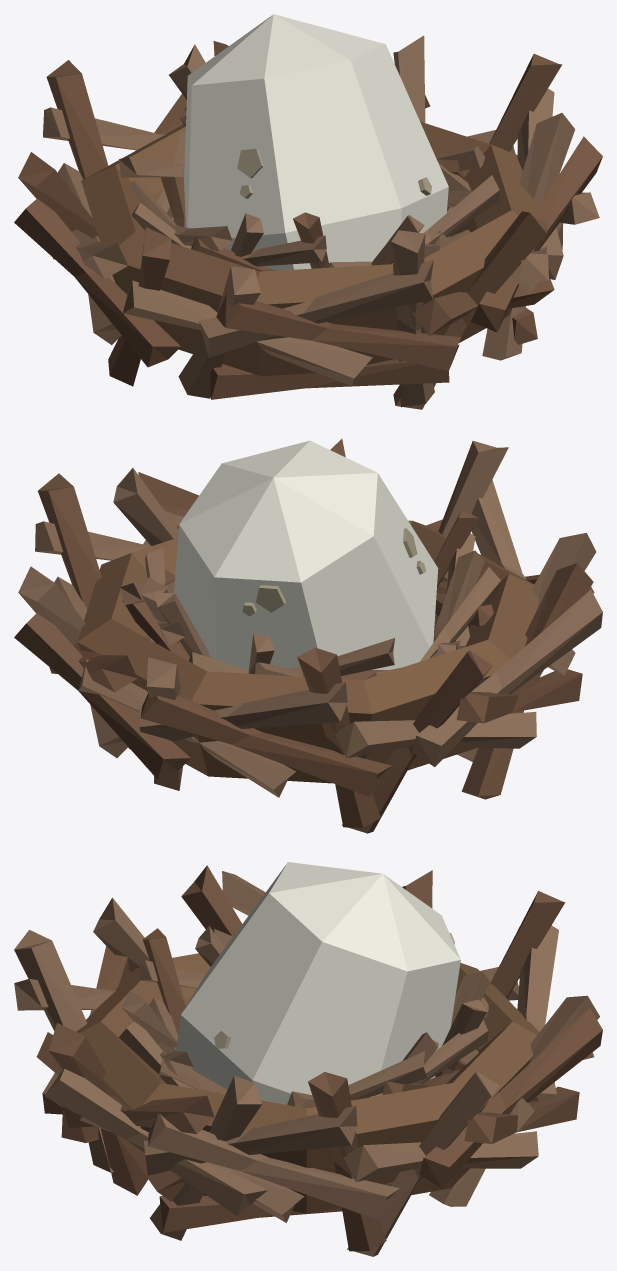
Rendered from bird_Nest_02.FBX.
3 views of the same model, one above another, from view 1: azimuth 30°, elevation 25°; view 2: azimuth 150°, elevation 25°; view 3: azimuth 270°, elevation 25° (orthographic).
Parts seen in each view (by area): view 1: bird_Nest_02; view 2: bird_Nest_02; view 3: bird_Nest_02.
Part boxes in pixels (x1,y1,x2,y2): bird_Nest_02: (14,14,602,409); bird_Nest_02: (14,438,602,833); bird_Nest_02: (14,862,602,1256).
Bounding box in the file's own units: 1 × 0.5759 × 0.9888.
